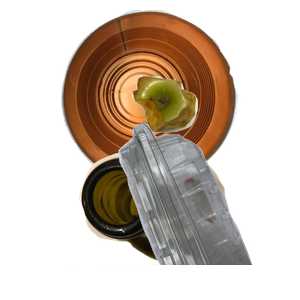glass: (77, 147, 295, 300)
metal: (58, 10, 289, 186)
plastic: (71, 120, 300, 300)
trash: (130, 74, 300, 199)
